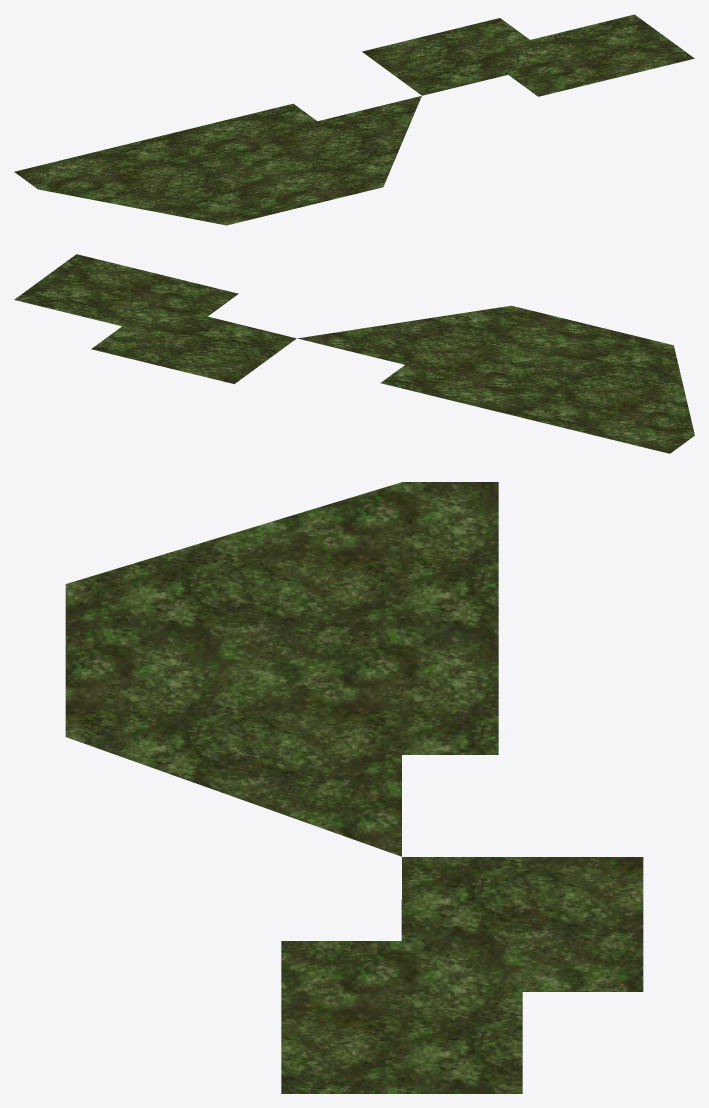
Rendered from OVERHILL_A_01_LINE153.fbx.
3 renders of one model, top to bottom at view 1: azimuth 30°, elevation 25°; view 2: azimuth 150°, elevation 25°; view 3: azimuth 270°, elevation 25°, orthographic. The views are drawn at different scales.
Visible parts, largest first — view 1: OVERHILL_A_01_LINE153; view 2: OVERHILL_A_01_LINE153; view 3: OVERHILL_A_01_LINE153.
Part boxes in pixels (x1,y1,x2,y2): OVERHILL_A_01_LINE153: [14, 14, 694, 225]; OVERHILL_A_01_LINE153: [14, 254, 694, 453]; OVERHILL_A_01_LINE153: [65, 482, 643, 1093].
Bounding box in the file's own units: 120000 × 0.0264 × 47883.
1 material, 1 textured.
